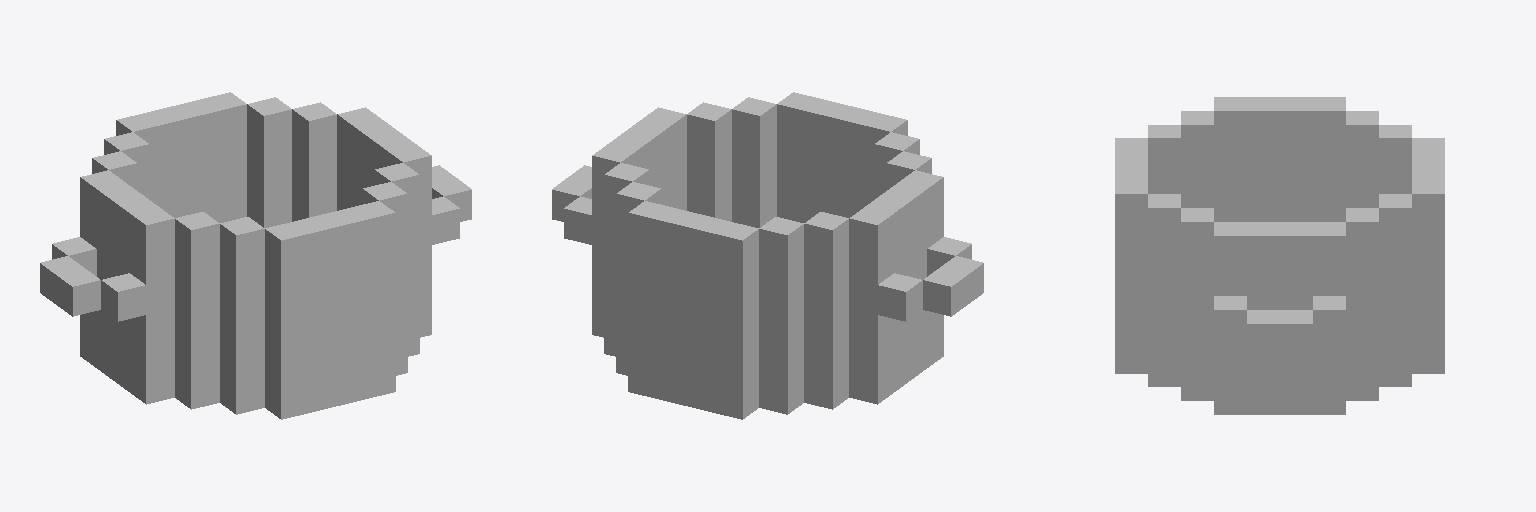
File: cooking_cooking_pot.obj
3 views of the same model, side by side, from view 1: azimuth 30°, elevation 25°; view 2: azimuth 150°, elevation 25°; view 3: azimuth 270°, elevation 25° (orthographic).
Visible parts, largest first — view 1: node_0_0_0.006; view 2: node_0_0_0.006; view 3: node_0_0_0.006.
Part boxes in pixels (x1,y1,x2,y2): node_0_0_0.006: (40, 92, 471, 419); node_0_0_0.006: (552, 92, 983, 419); node_0_0_0.006: (1115, 97, 1444, 414).
Size of the model in its own units: 0.875 by 0.375 by 0.625.